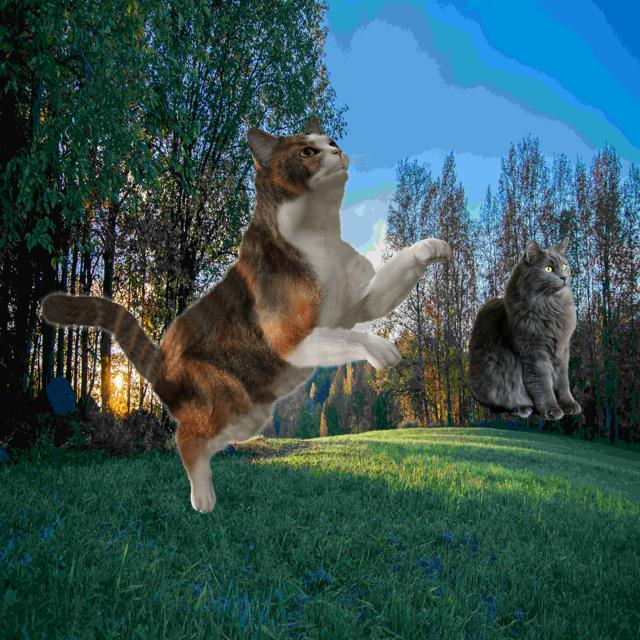cat: (41, 103, 451, 520), (465, 235, 584, 422)
